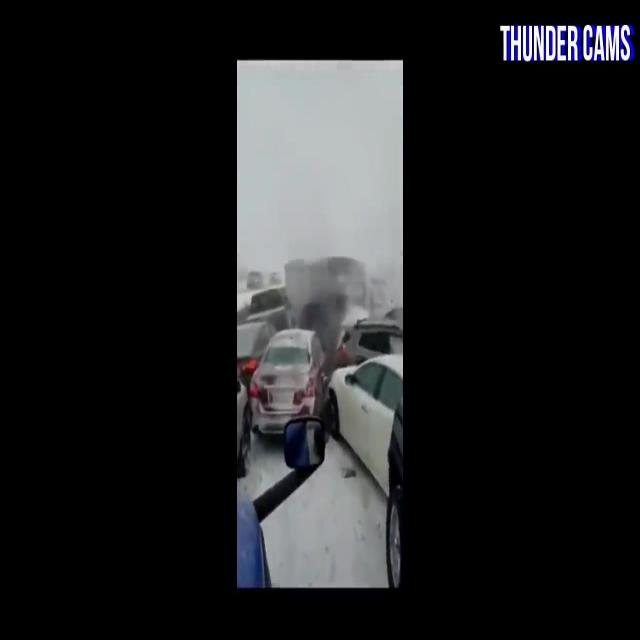accident: (274, 330, 384, 455)
